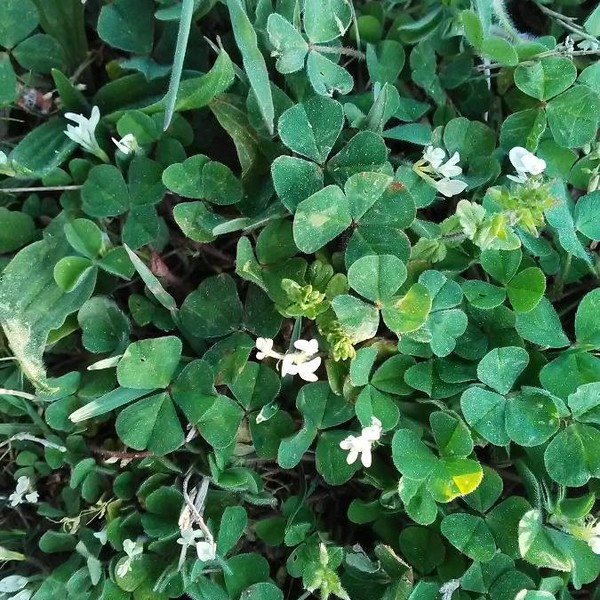obstacle: (256, 78, 566, 512), (18, 125, 269, 563)
